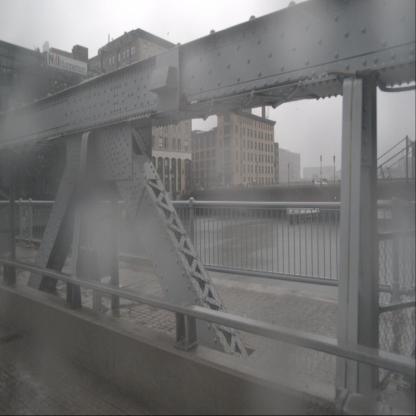vehicle-car: (315, 180, 327, 189), (238, 182, 249, 190)
